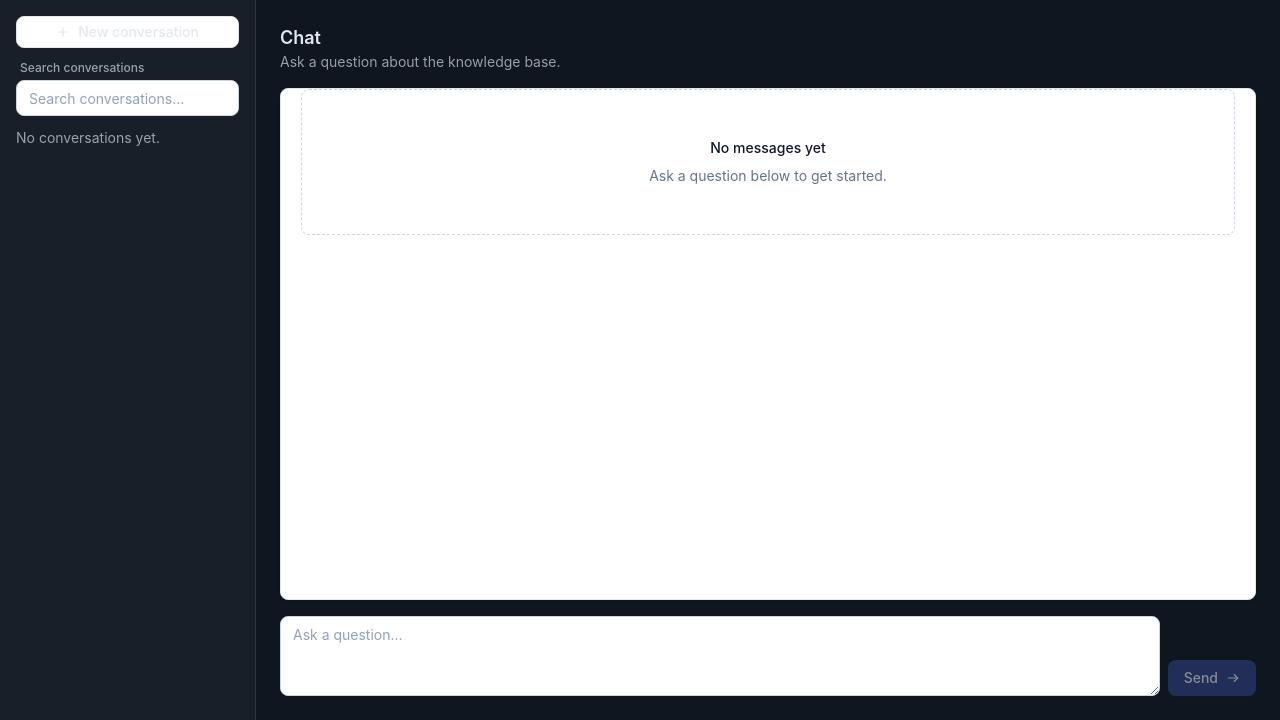
Test: Chat screen › AC-058/AC-059: a fallback answer shows 'Not from your documents' and renders no chips
The width and height of the screenshot is (1280, 720).
Expected: the text "No messages yet" is shown, [710,138,826,158]
Type "Not grounded?" into the text box with placeholder "Ask a question…". click: {"x": 720, "y": 656}
box: [280,616,1160,696]
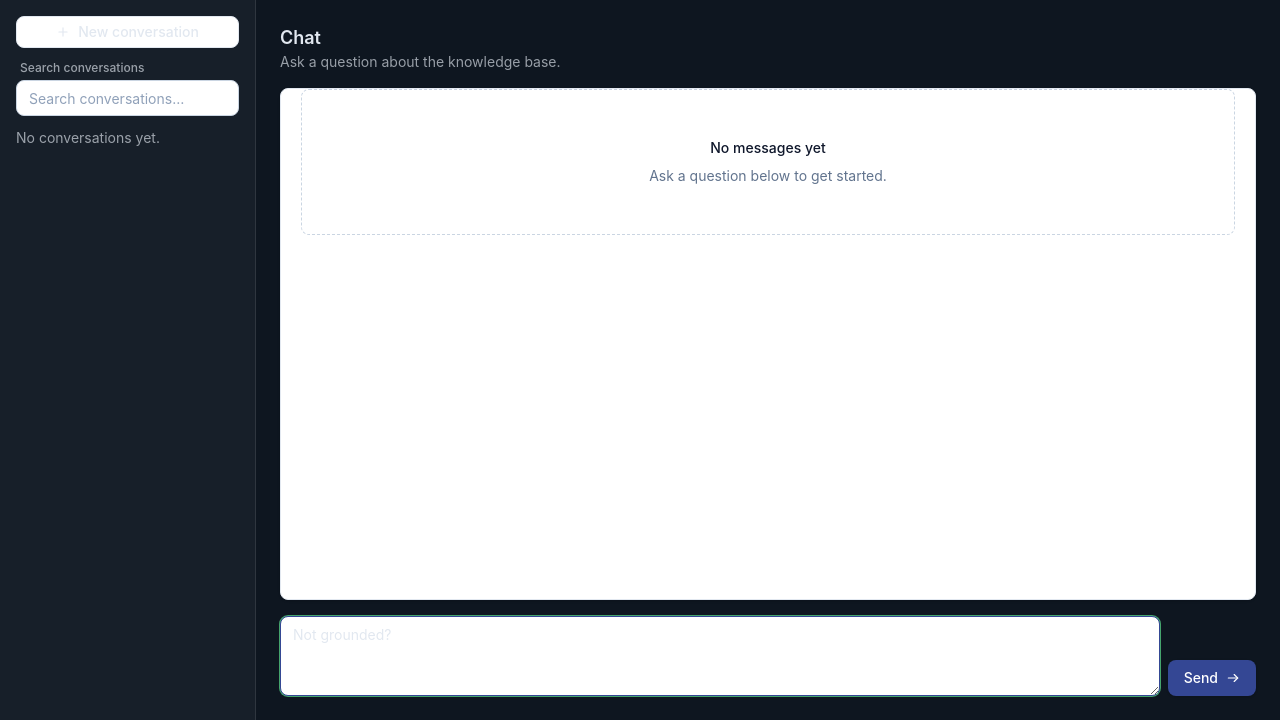
Click the button "Send". click: {"x": 1212, "y": 678}
box: [1168,660,1256,696]
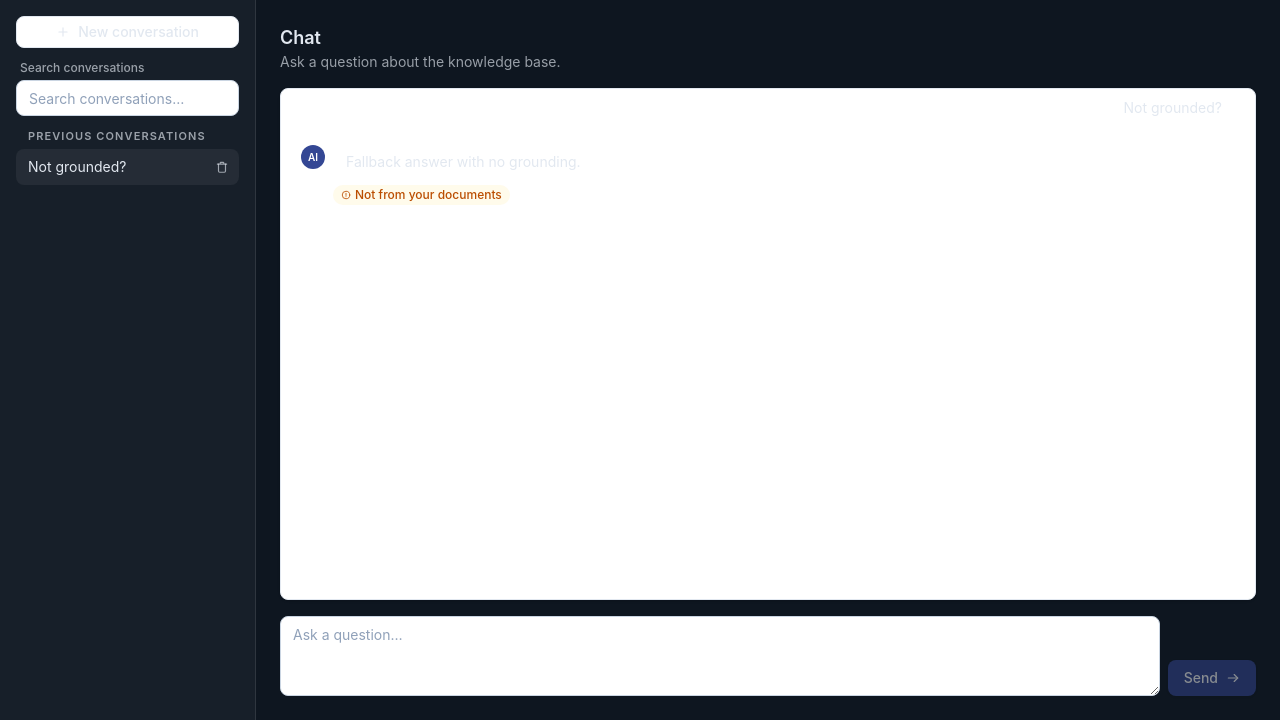
Expected: the text "Fallback answer with no grounding." is shown, [333,143,594,181]
Expected: the text "Not from your documents" is shown, [333,185,510,205]
